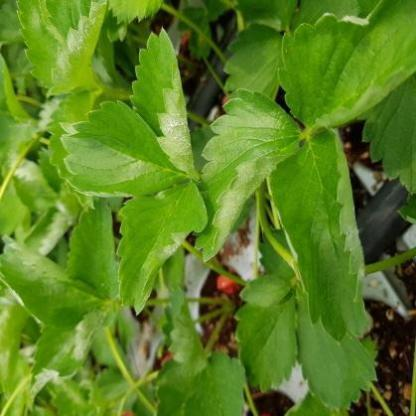Strawberry_Powdery_Mildew_Leaf: (268, 130, 374, 346), (195, 88, 304, 266), (276, 0, 416, 135), (115, 180, 209, 316), (126, 27, 200, 182), (13, 0, 108, 99), (28, 307, 113, 409), (3, 156, 60, 212), (22, 202, 74, 258)
